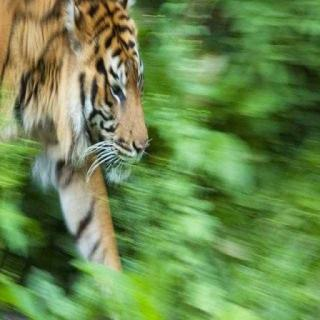Tiger: (0, 0, 161, 301)
